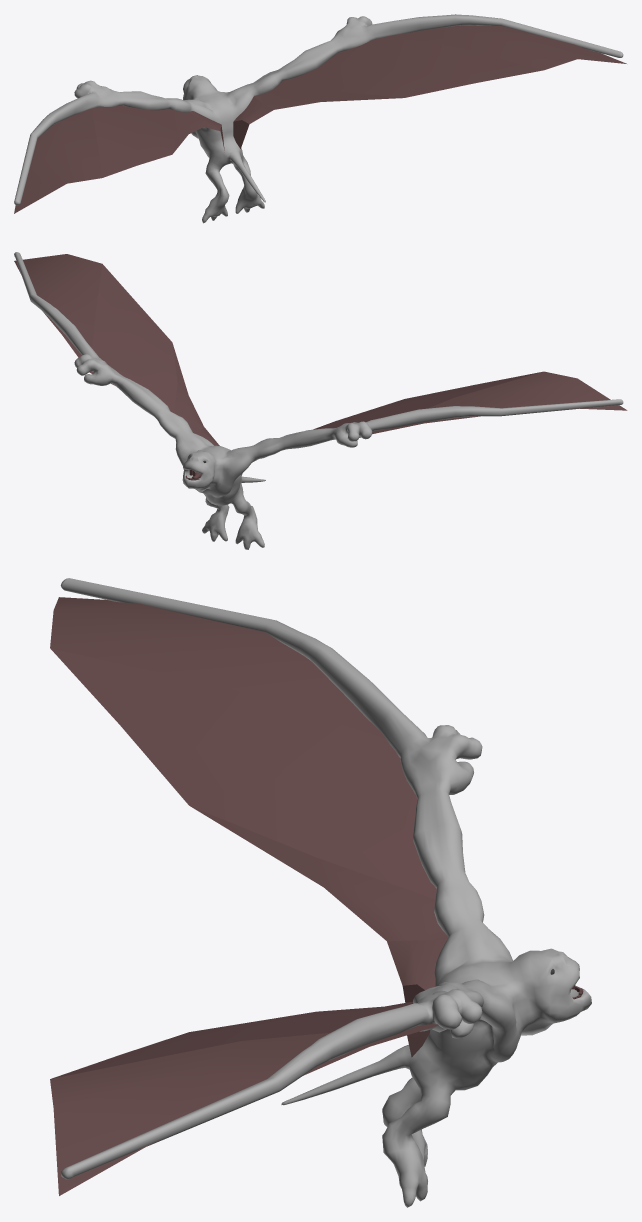
File: Molebat.fbx
3 views of the same model, one above another, from view 1: azimuth 30°, elevation 25°; view 2: azimuth 150°, elevation 25°; view 3: azimuth 270°, elevation 25° (orthographic). The views are drawn at different scales.
Visible parts, largest first — view 1: PolySphere_2:ZBrushPolyMesh3D1; view 2: PolySphere_2:ZBrushPolyMesh3D1; view 3: PolySphere_2:ZBrushPolyMesh3D1.
Boxes of the visible parts, x1,y1,x2,y2 form: PolySphere_2:ZBrushPolyMesh3D1: (14,14,626,223); PolySphere_2:ZBrushPolyMesh3D1: (14,252,627,549); PolySphere_2:ZBrushPolyMesh3D1: (50,578,591,1207).
Size of the model in its own units: 49.29 by 13.06 by 18.84.
